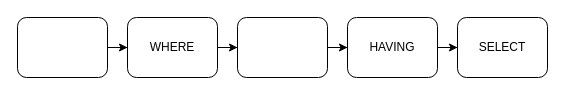
Image size: 565x95. Some labels were removed from this diagram. Here are the shapes that lost their labels. From the top down, the centre of each, then its label:
At point (62, 47): "From".
At point (282, 47): "GROUP BY".
